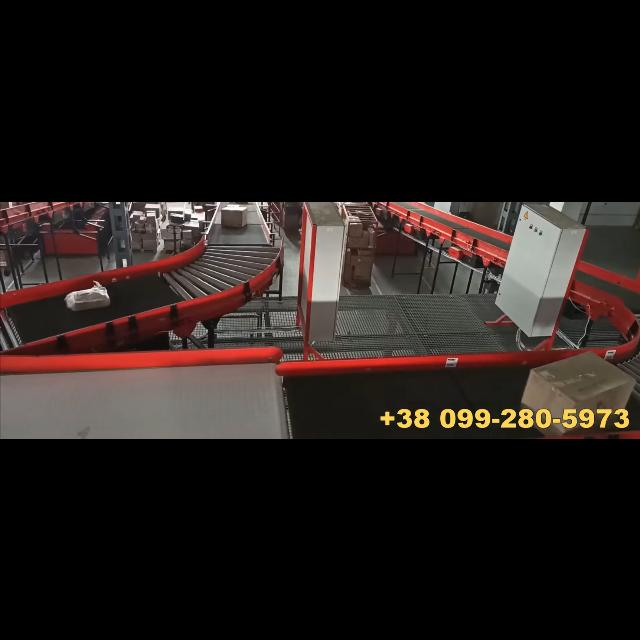box: (220, 205, 248, 227)
mailer: (68, 286, 110, 310)
